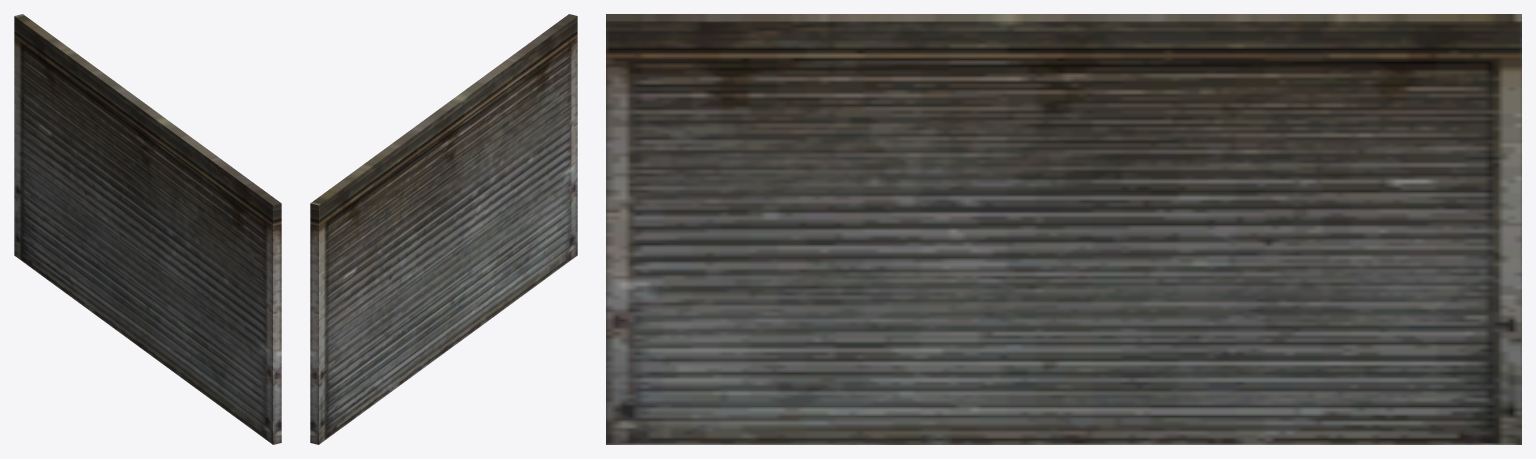
Rendered from GargDRX.glb.
The picture shows the model from 3 angles, left to right: view 1: azimuth 30°, elevation 25°; view 2: azimuth 150°, elevation 25°; view 3: azimuth 270°, elevation 25°; orthographic projection. The views are drawn at different scales.
Visible parts, largest first — view 1: _GargDRX; view 2: _GargDRX; view 3: _GargDRX.
Part boxes in pixels (left/top/right/bottom): _GargDRX: left=14, top=14, right=281, bottom=444; _GargDRX: left=310, top=14, right=577, bottom=444; _GargDRX: left=606, top=14, right=1521, bottom=444.
Size of the model in its own units: 0.125 by 3.34 by 6.55.
1 material, 1 textured.
